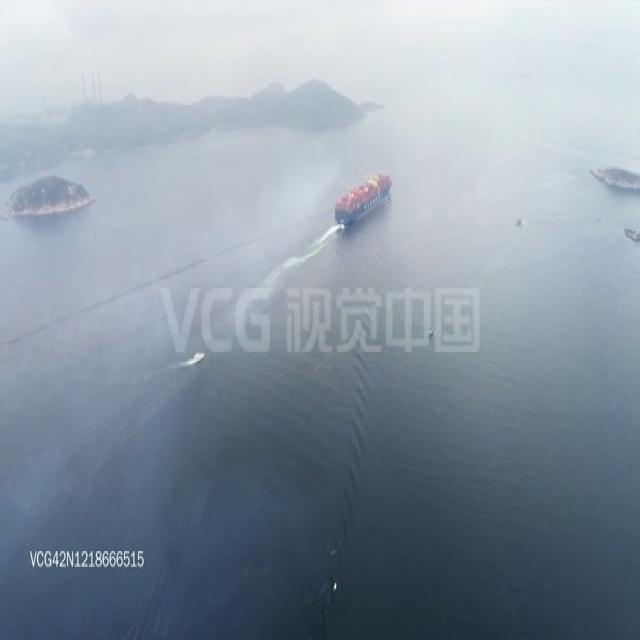cargoship: (334, 168, 393, 227)
houseboat: (187, 348, 204, 366), (428, 326, 435, 341), (514, 217, 522, 226)
